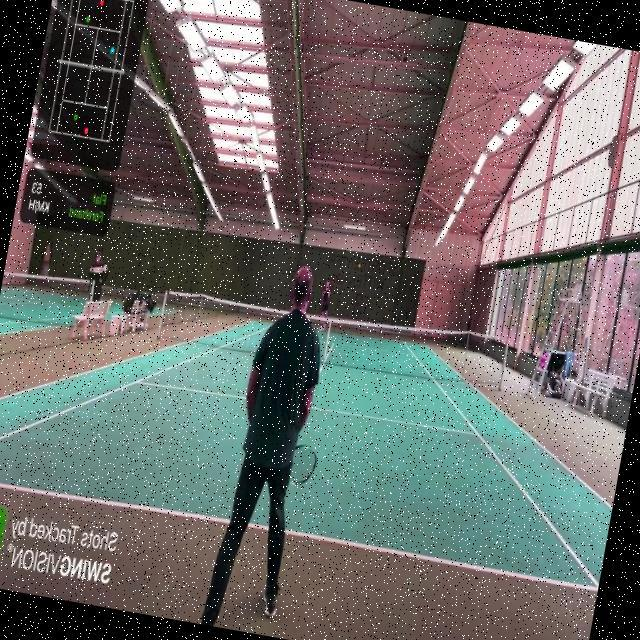court: (0, 270, 634, 594)
net: (155, 274, 510, 402)
player: (200, 257, 350, 639)
